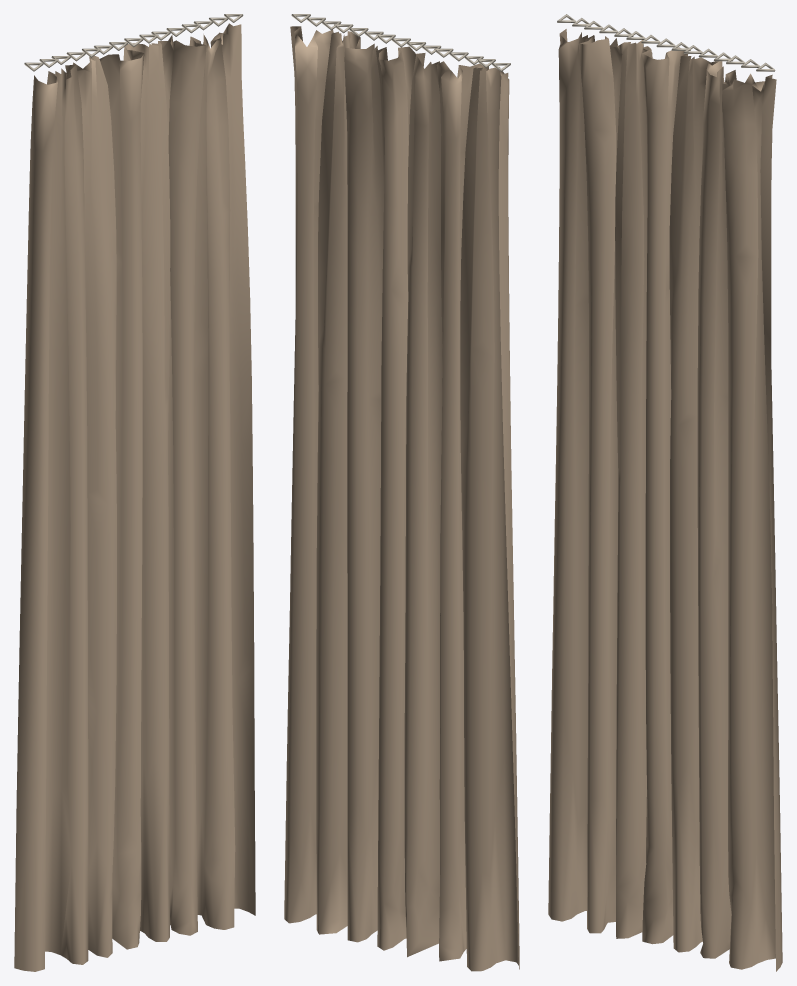
File: curtain_rings_w100_g60_70_lod0.glb
3 views of the same model, side by side, from view 1: azimuth 30°, elevation 25°; view 2: azimuth 150°, elevation 25°; view 3: azimuth 330°, elevation 25° (orthographic).
Visible parts, largest first — view 1: curtain_rings_g60_70_lod0_fabric, curtain_rings_g60_70_lod0_rings; view 2: curtain_rings_g60_70_lod0_fabric, curtain_rings_g60_70_lod0_rings; view 3: curtain_rings_g60_70_lod0_fabric, curtain_rings_g60_70_lod0_rings.
Part boxes in pixels (x1,y1,x2,y2): curtain_rings_g60_70_lod0_fabric: [14, 23, 255, 971]; curtain_rings_g60_70_lod0_rings: [24, 14, 243, 71]; curtain_rings_g60_70_lod0_fabric: [284, 26, 519, 971]; curtain_rings_g60_70_lod0_rings: [291, 14, 510, 71]; curtain_rings_g60_70_lod0_fabric: [548, 29, 782, 971]; curtain_rings_g60_70_lod0_rings: [557, 14, 775, 71].
Bounding box in the file's own units: 0.6944 × 2.54 × 0.1381.
